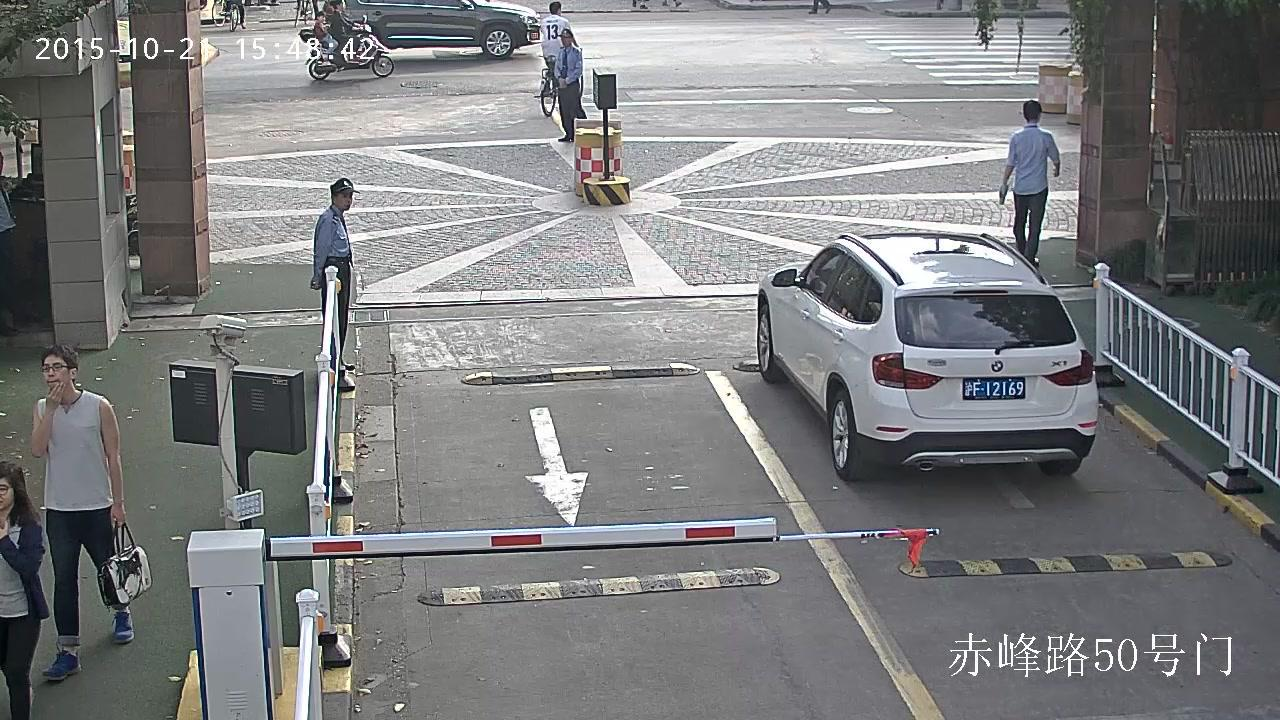face: (42, 353, 69, 390), (0, 475, 12, 510), (336, 190, 352, 209), (561, 30, 572, 45), (338, 0, 345, 11), (319, 14, 325, 22)
